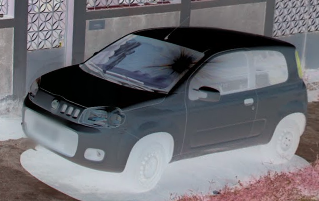car: (22, 27, 308, 190)
